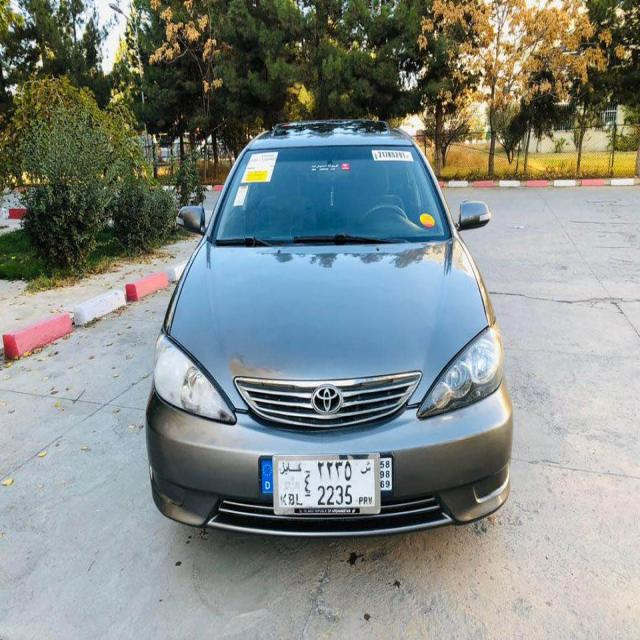Plate: (271, 451, 383, 519)
